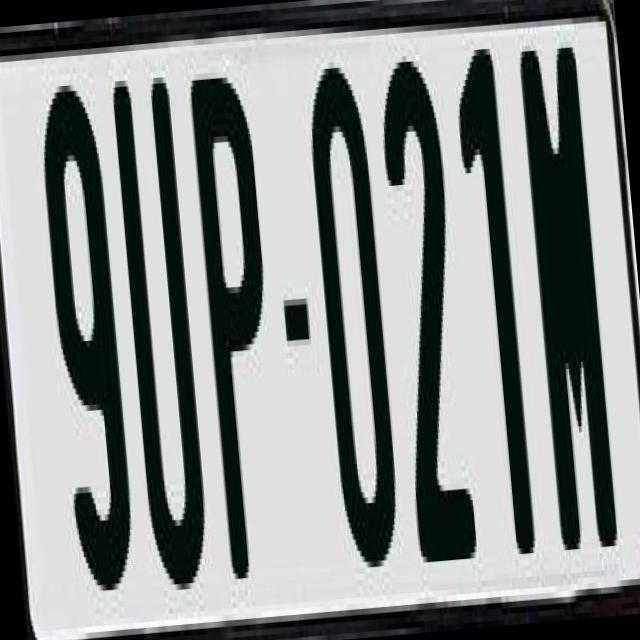0: (302, 54, 403, 558)
1: (449, 31, 536, 550)
2: (372, 59, 476, 592)
9: (35, 70, 148, 610)
M: (516, 40, 625, 579)
P: (186, 69, 292, 608)
U: (107, 64, 216, 586)
